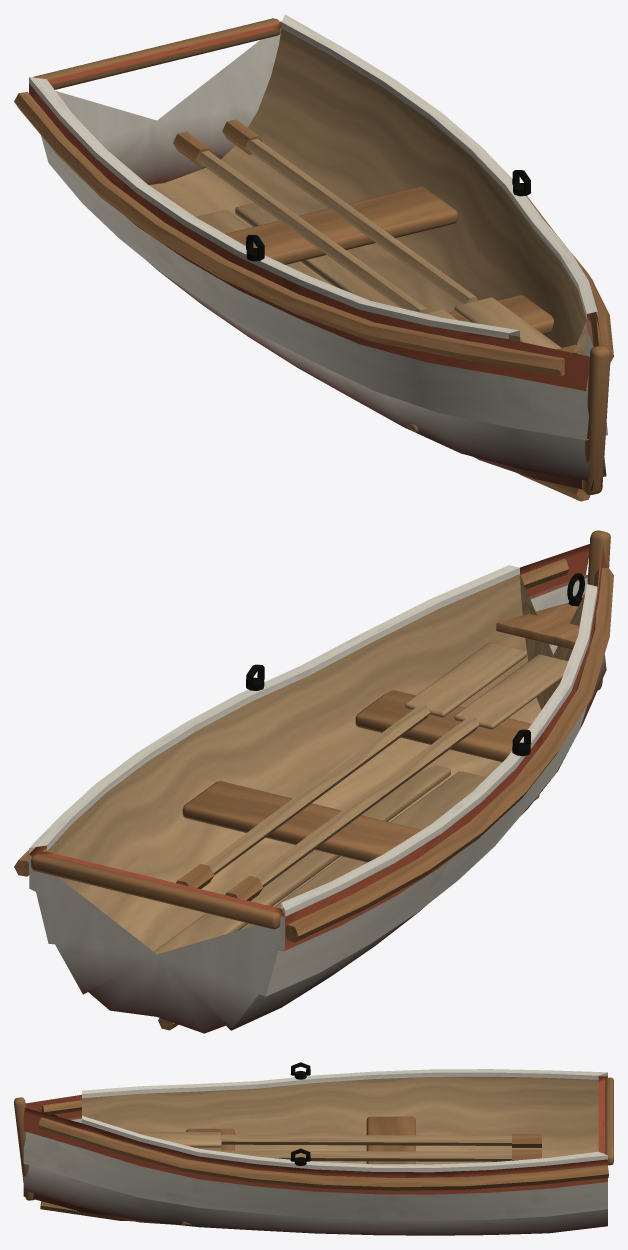
Rendered from rowboat.glb.
3 views of the same model, one above another, from view 1: azimuth 30°, elevation 25°; view 2: azimuth 150°, elevation 25°; view 3: azimuth 270°, elevation 25° (orthographic). The views are drawn at different scales.
Parts seen in each view (by area): view 1: rowboat; view 2: rowboat; view 3: rowboat.
Boxes of the visible parts, x1,y1,x2,y2 form: rowboat: (14,14,613,501); rowboat: (14,530,613,1033); rowboat: (14,1062,613,1235).
Size of the model in its own units: 0.6742 by 0.3604 by 1.59.
3 materials, 2 textured.
